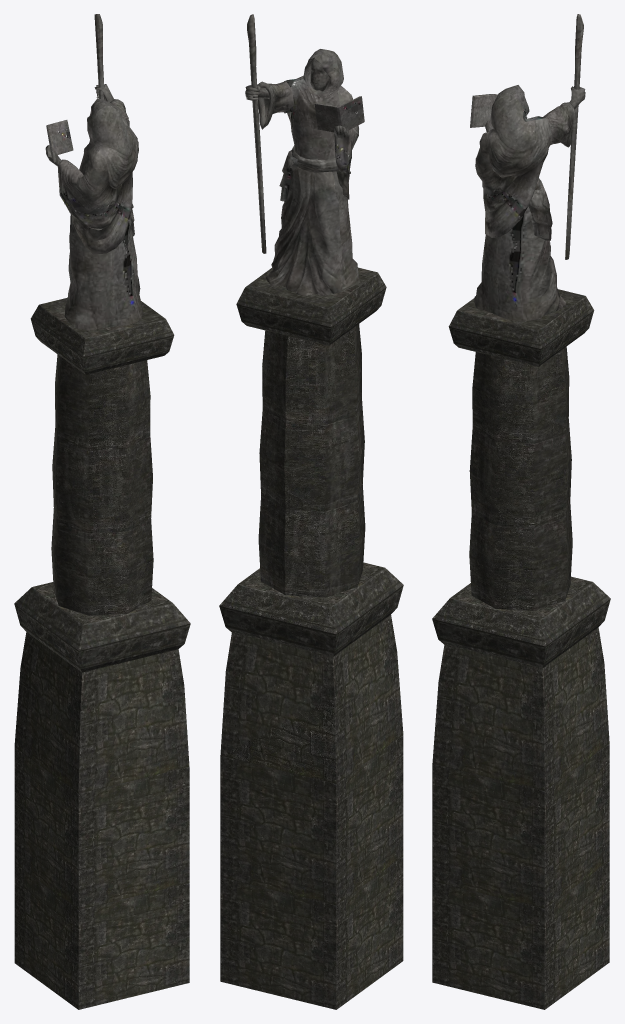
The model's file is eso_gu5_StatuePillar1-transformed.glb.
3 views of the same model, side by side, from view 1: azimuth 30°, elevation 25°; view 2: azimuth 150°, elevation 25°; view 3: azimuth 330°, elevation 25° (orthographic). The views are drawn at different scales.
Visible parts, largest first — view 1: default; view 2: default; view 3: default.
Boxes of the visible parts, x1,y1,x2,y2 form: default: (14, 14, 190, 1009); default: (219, 14, 403, 1009); default: (432, 14, 610, 1009).
Size of the model in its own units: 1.7 by 13.48 by 1.7.
1 material, 1 textured.
